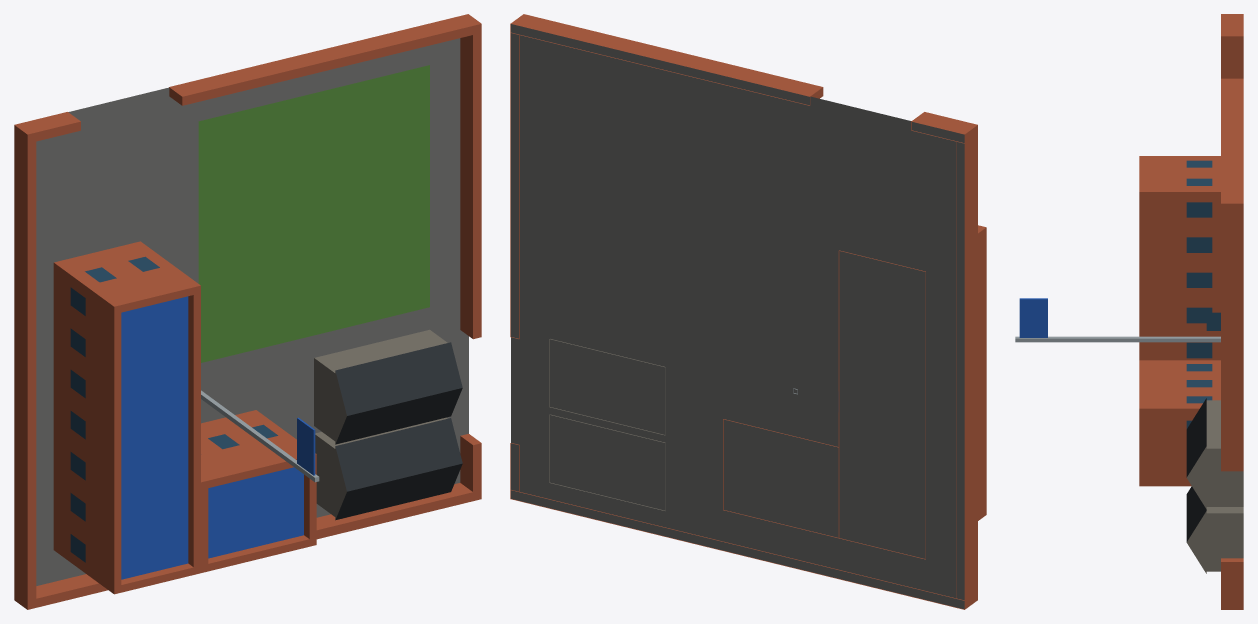
3 views of the same model, side by side, from view 1: azimuth 30°, elevation 25°; view 2: azimuth 150°, elevation 25°; view 3: azimuth 270°, elevation 25° (orthographic). The views are drawn at different scales.
Parts seen in each view (by area): view 1: object_hq_medium; view 2: object_hq_medium; view 3: object_hq_medium.
Part boxes in pixels (x1,y1,x2,y2): object_hq_medium: (14,14,481,609); object_hq_medium: (510,14,986,609); object_hq_medium: (1015,14,1243,609).
Size of the model in its own units: 31.4 by 31.4 by 16.
